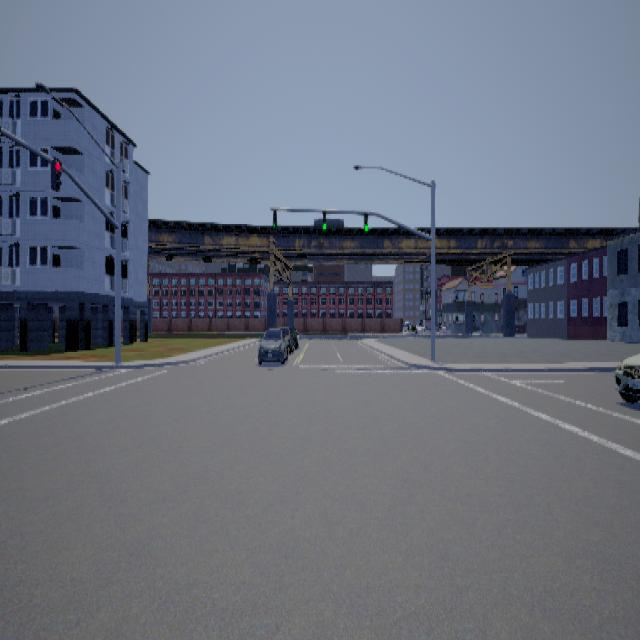green_light: (272, 207, 276, 229), (363, 210, 367, 230), (322, 209, 325, 231)
red_light: (50, 158, 61, 190)
vehicle: (257, 325, 298, 364), (613, 352, 639, 403)
